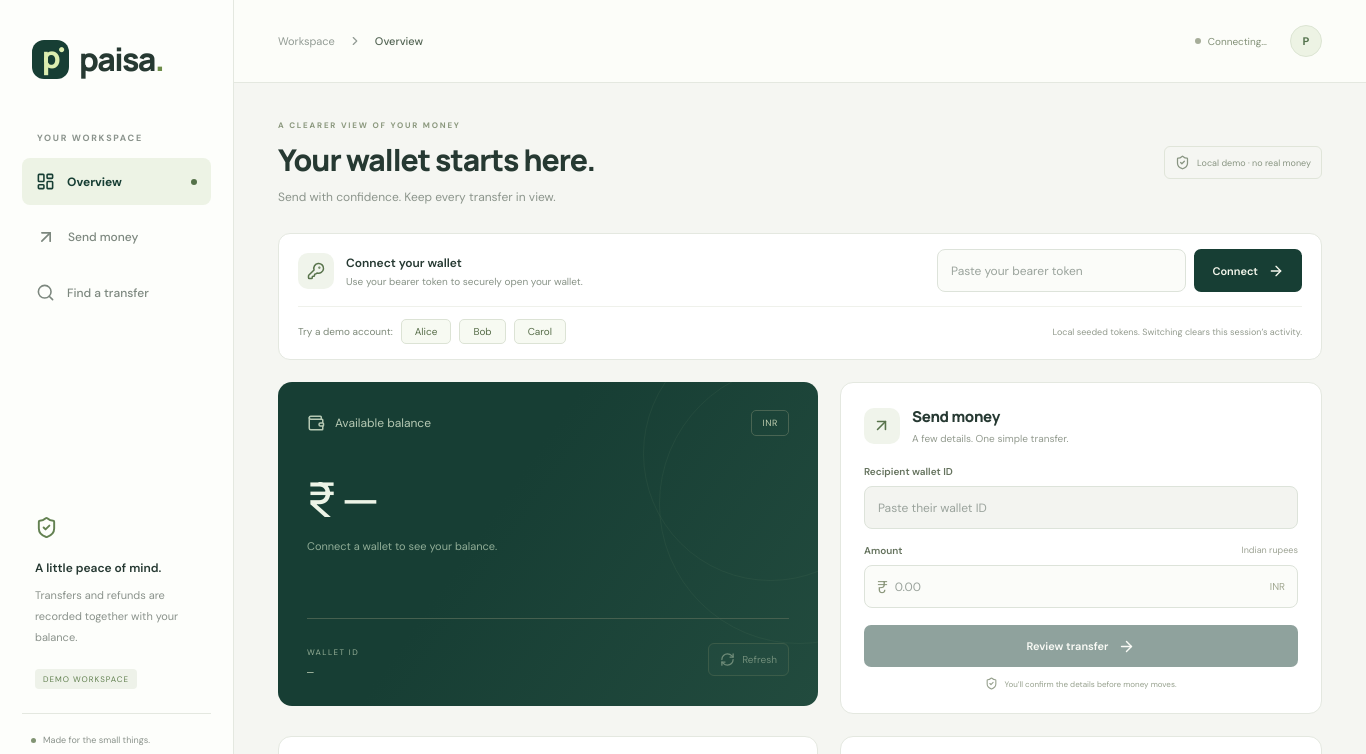
shows a persistent decline as a decline
Step 1. Type "test-token" into the password field labelled "bearer token" → (1062, 270), box [937, 249, 1186, 292]
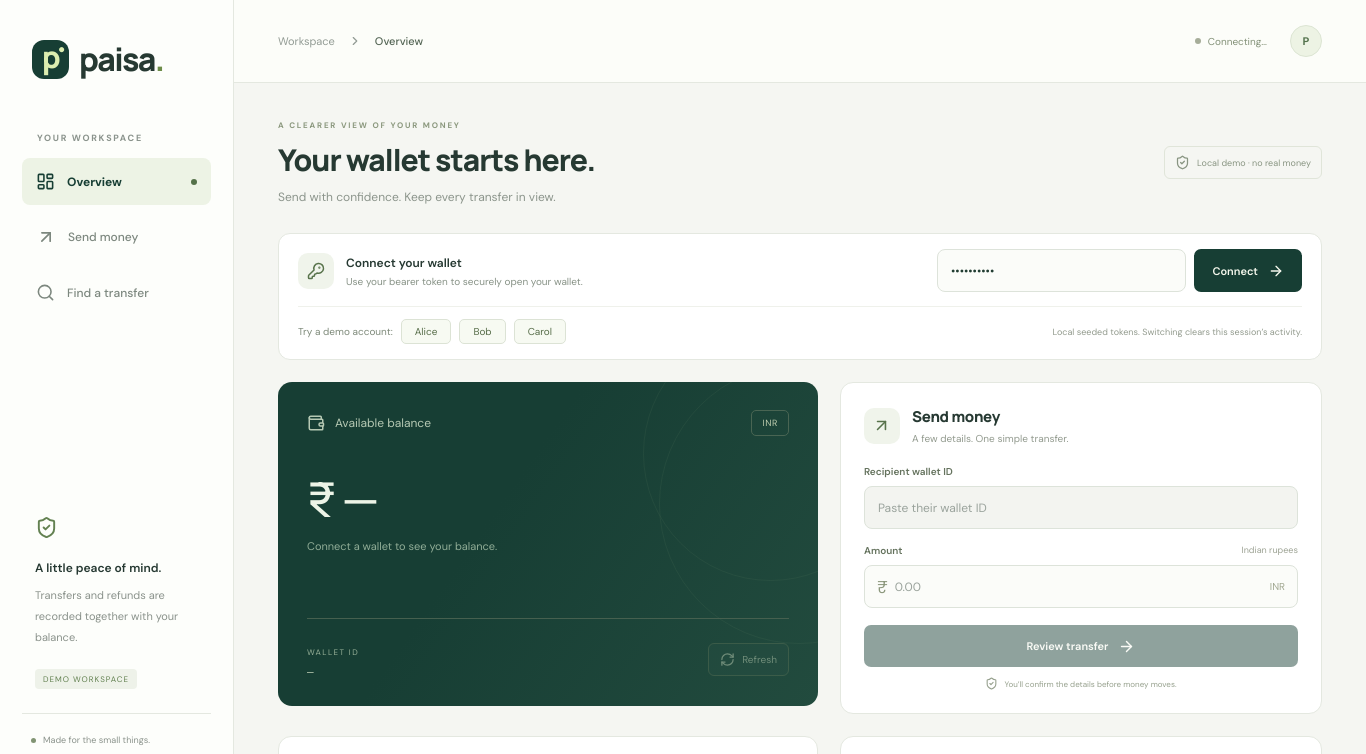
Step 2. Click the button "Connect" → (1248, 270), box [1194, 249, 1302, 292]
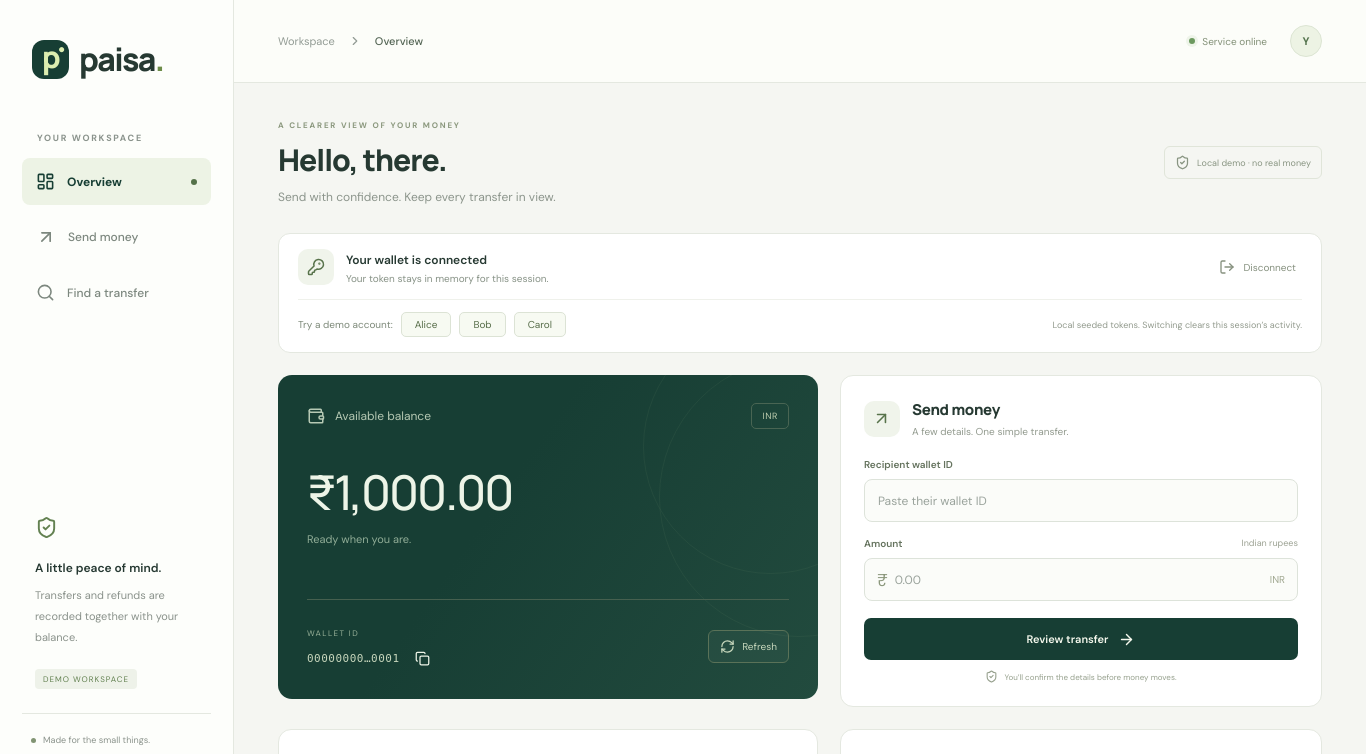
Expected: the text "Your wallet is connected" is shown, [346, 252, 487, 268]
Step 3. Type "00000000-0000-4000-8000-000000000002" into the field labelled "Recipient wallet ID" → (1081, 500), box [864, 479, 1298, 522]
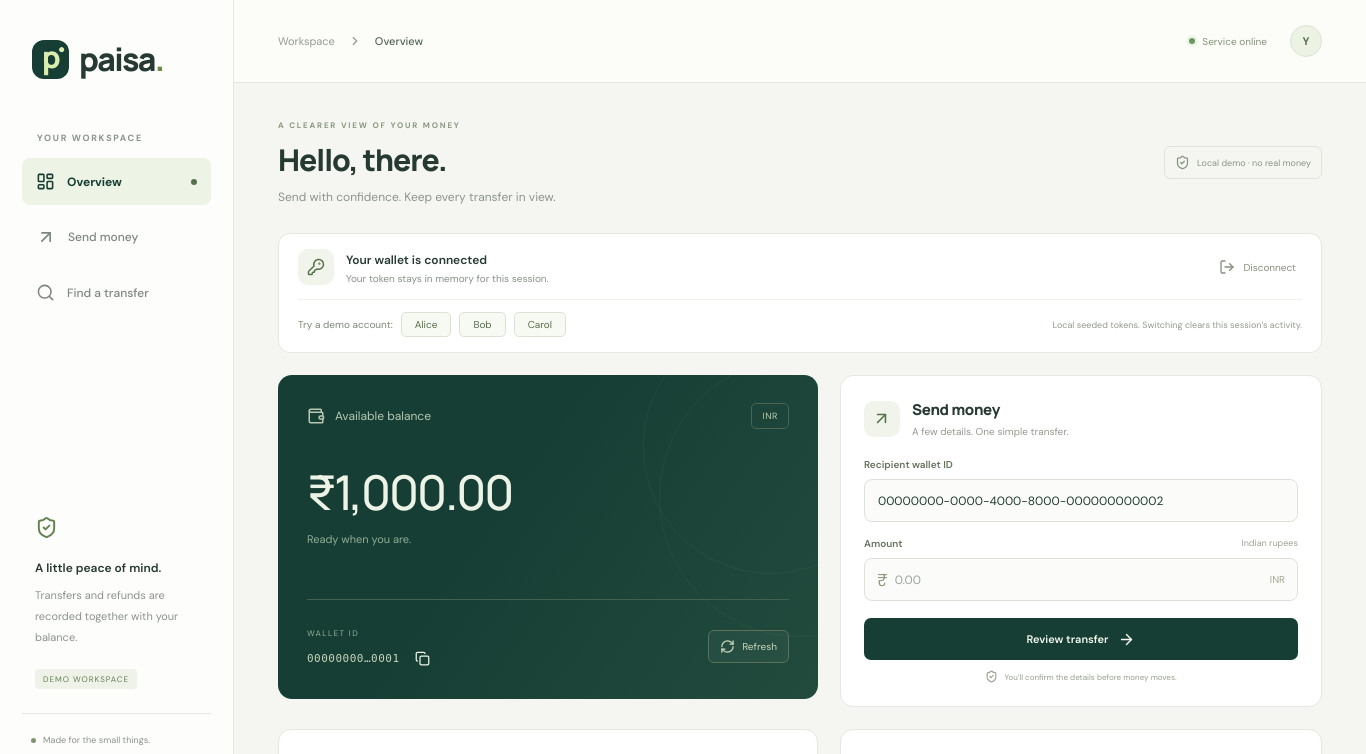
Step 4. Type "12.34" into the field labelled "Amount" → (1079, 580), box [895, 560, 1263, 598]
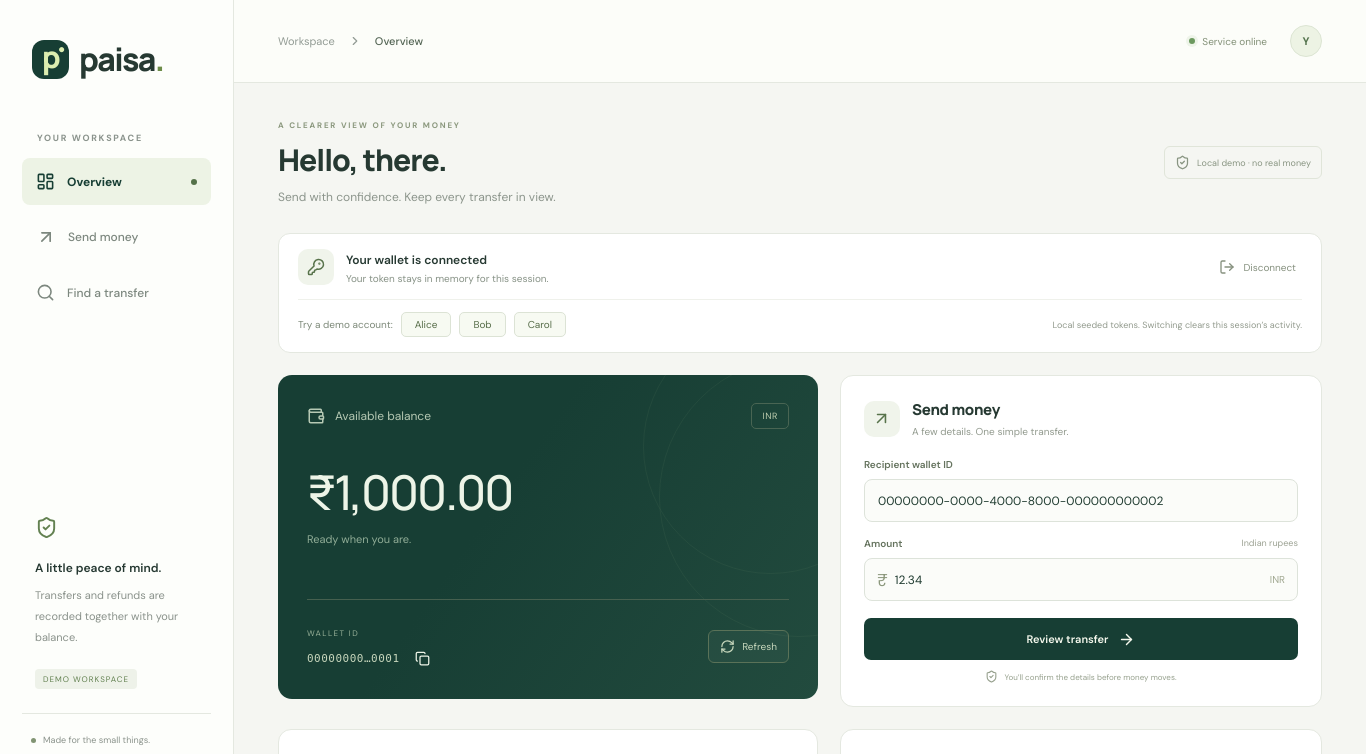
Step 5. Click the button "Review transfer" → (1081, 639), box [864, 618, 1298, 660]
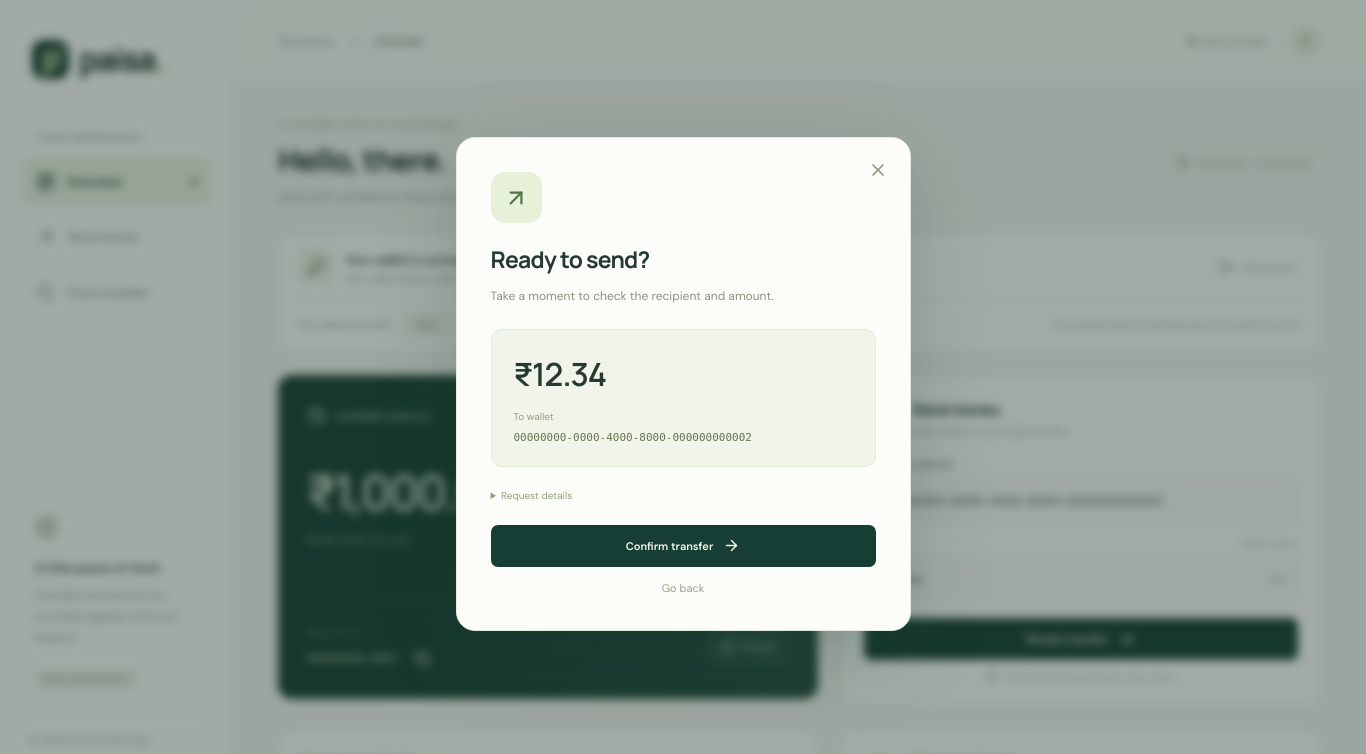
Step 6. Click the button "Confirm transfer" → (683, 546), box [490, 525, 876, 567]
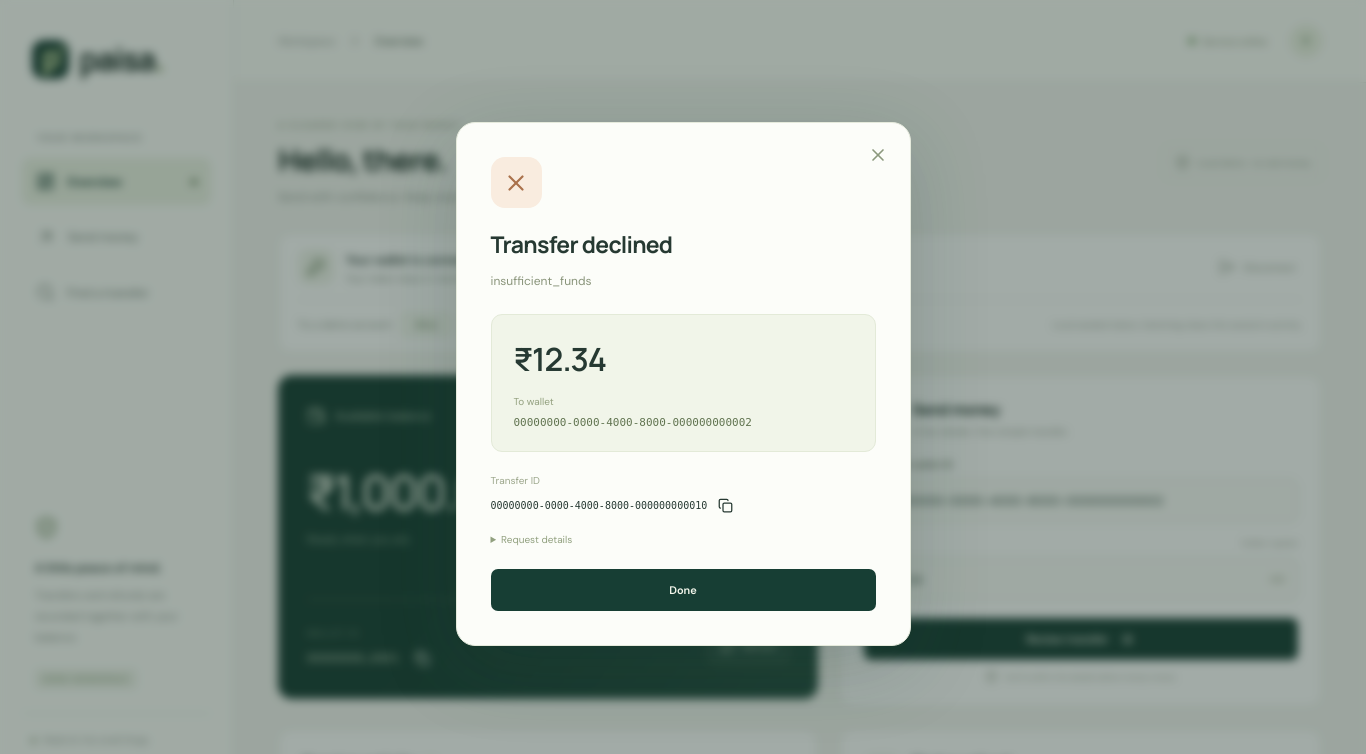
Expected: the heading "Transfer declined" is shown, [490, 228, 672, 260]
